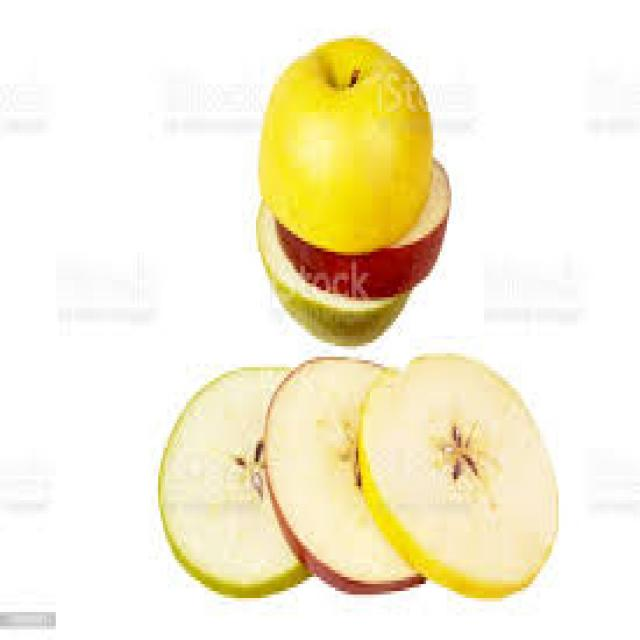Apple: (362, 360, 560, 598), (265, 352, 425, 592), (258, 37, 432, 251), (156, 360, 306, 594), (277, 218, 444, 285), (265, 264, 399, 343)
